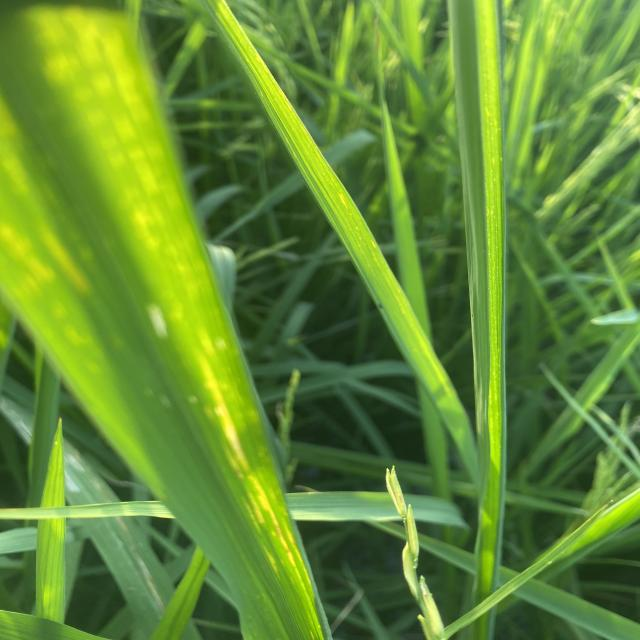Dom soc vi khuan: (195, 353, 253, 472)
